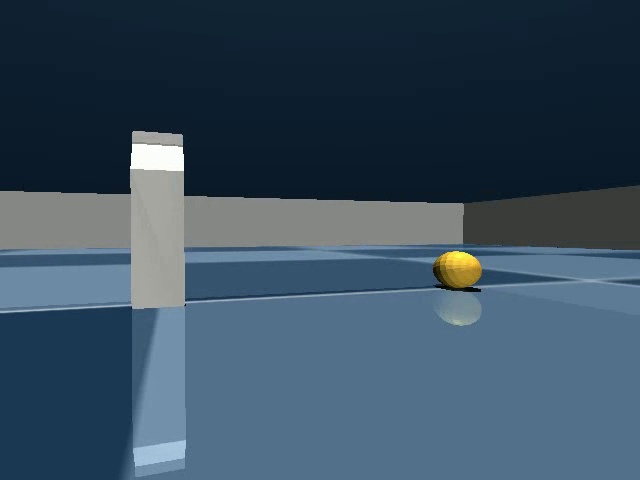lemon: (427, 246, 488, 298)
milk: (122, 122, 195, 318)
